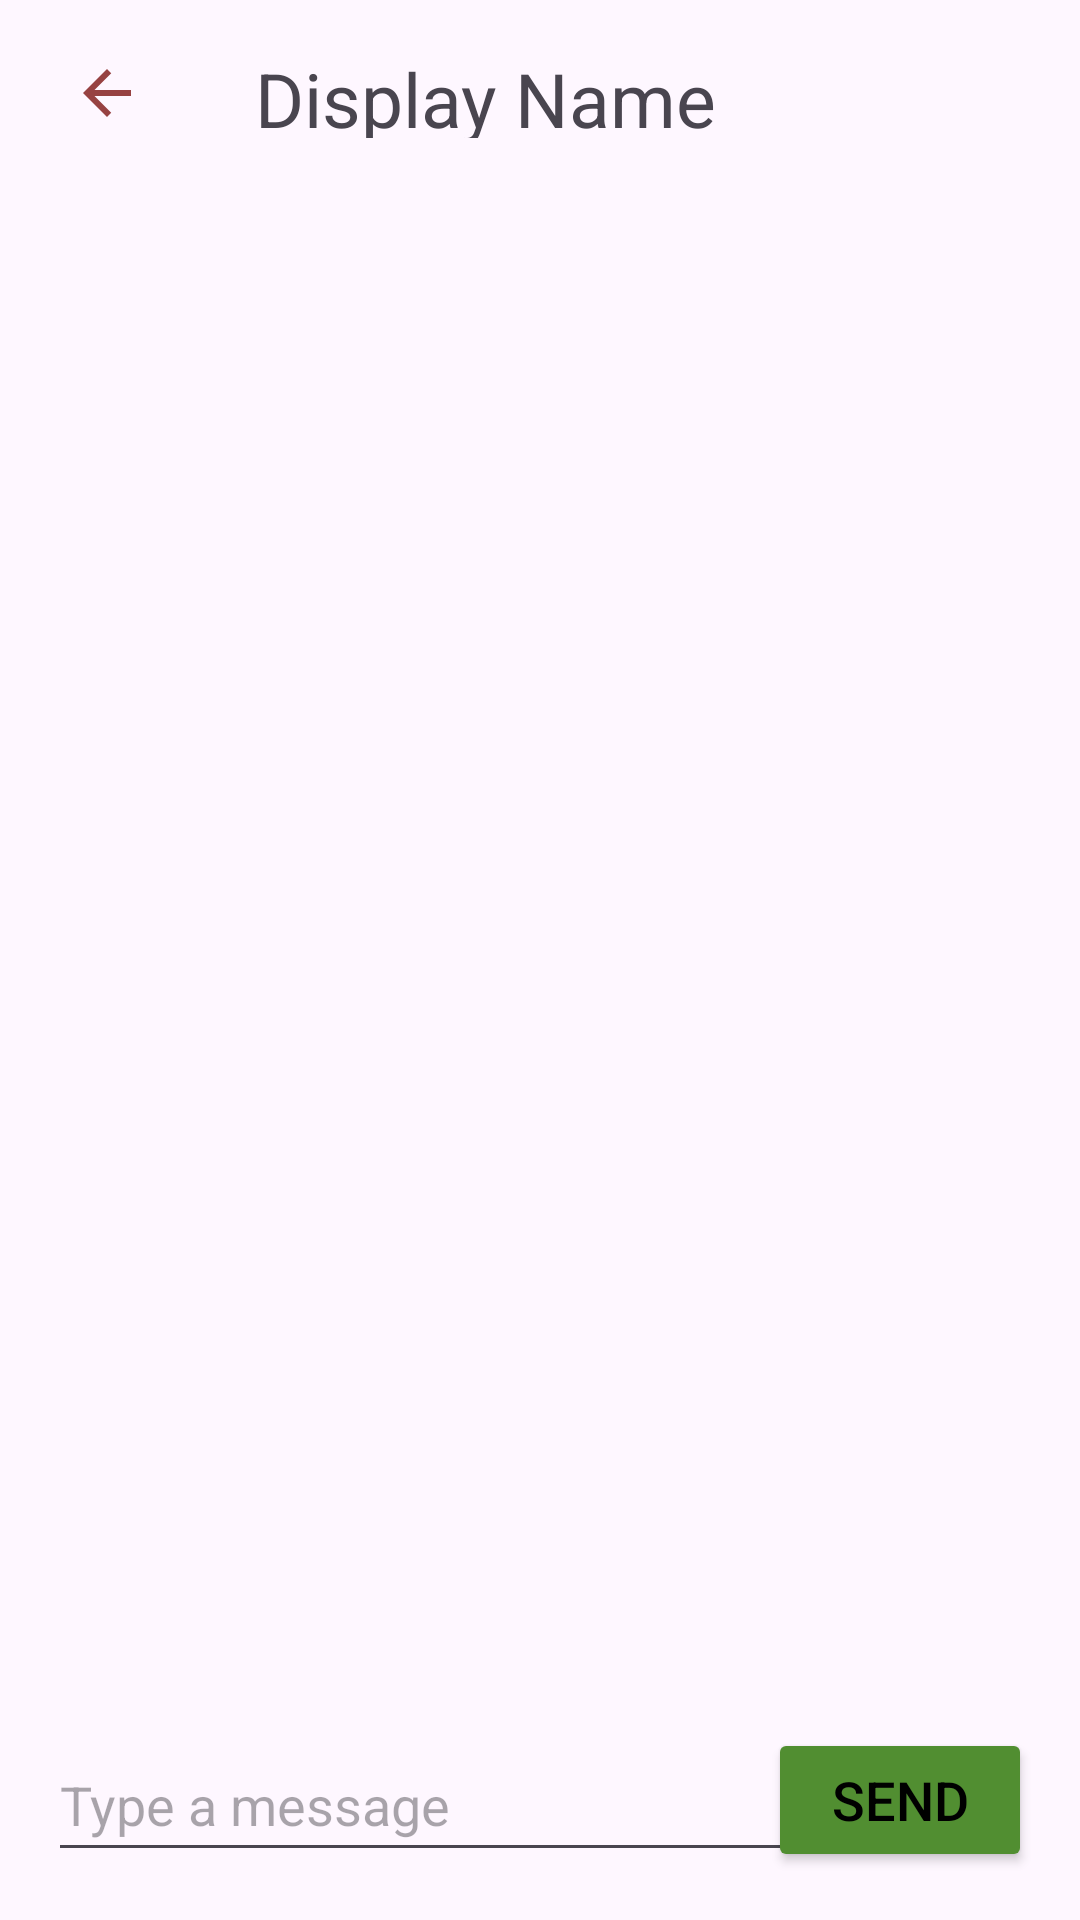

Screen size 1080px×1920px. Icon name, then its box in pixels as bbox=[x1, y1, x2, y2]:
arrow back: bbox=[83, 69, 131, 117]
